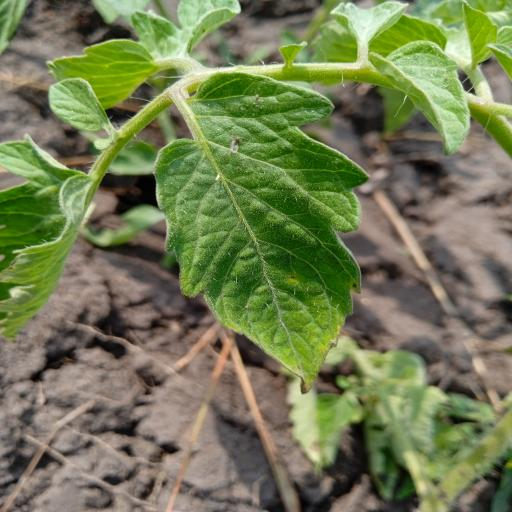Tomato_Brown_Spots: (148, 67, 368, 398)
